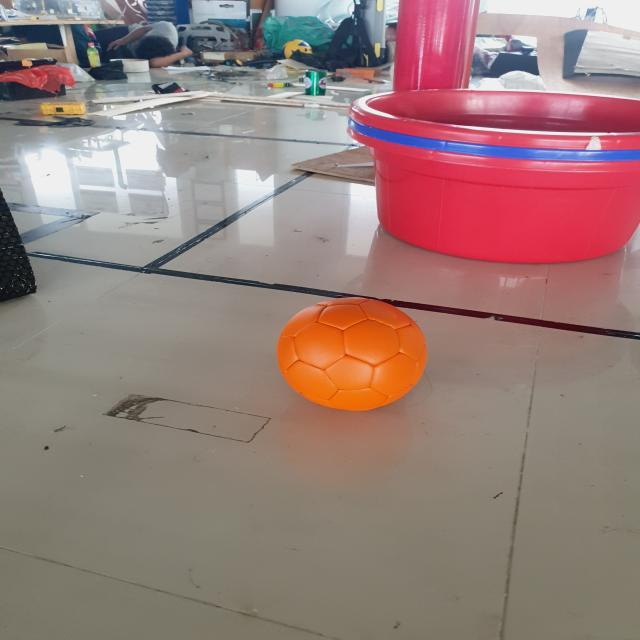bola: (270, 292, 434, 418)
